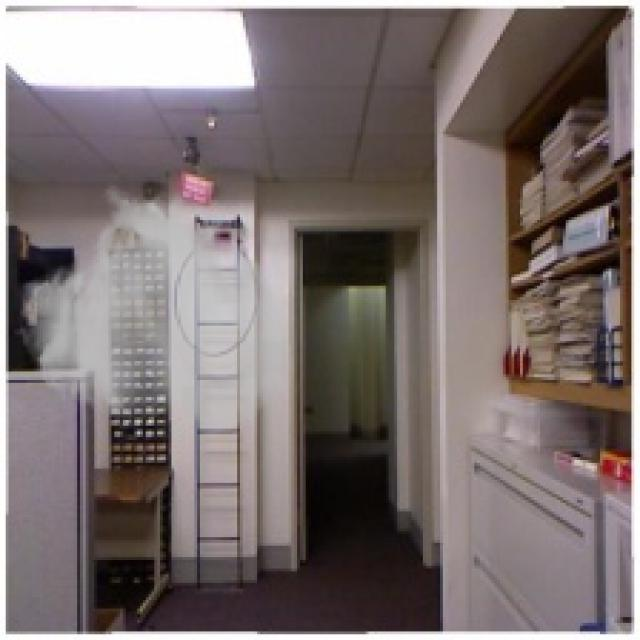smoke: (17, 183, 297, 437)
